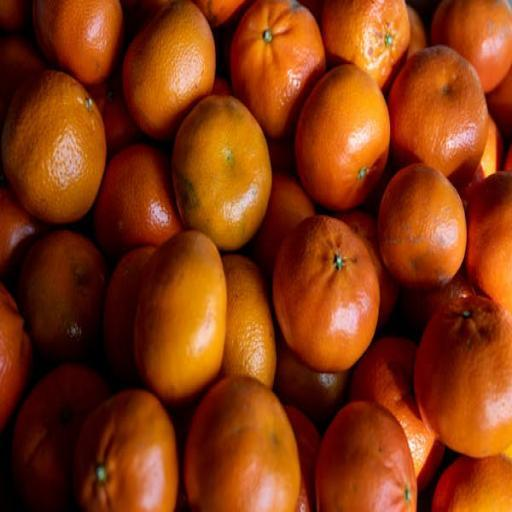orange: (273, 214, 379, 371), (2, 70, 106, 224), (183, 376, 300, 511), (414, 296, 511, 457), (172, 95, 272, 251), (388, 46, 488, 188), (295, 63, 389, 209), (230, 0, 325, 139), (73, 388, 180, 511), (315, 402, 417, 511), (378, 164, 466, 288)
